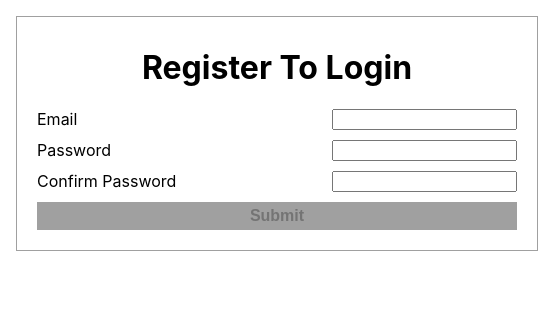
Register page › handle errors and navigate › should show password error message on invalid password
expect the text "Password should have at least 5 characters" is not shown: met
Type "stackjs@gmail.com" into the field labelled "Email" at {"x": 424, "y": 119}, box [332,109,517,130]
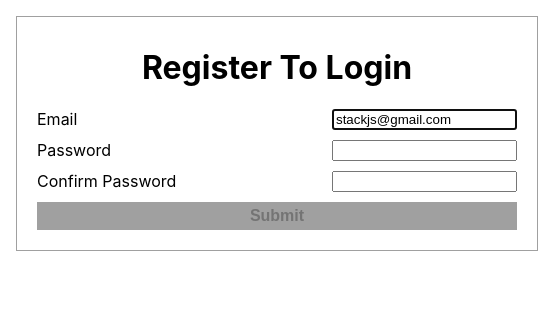
Type "123" into the password field labelled "Password" at {"x": 424, "y": 150}, box [332,140,517,161]
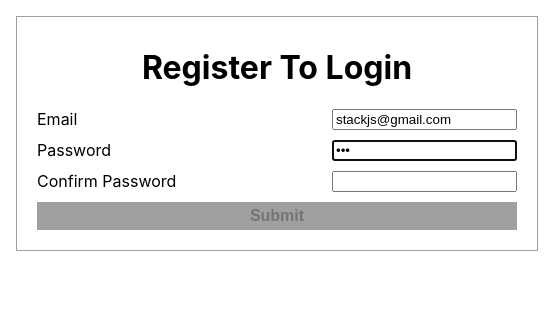
Type "123" into the password field labelled "Confirm Password" at {"x": 424, "y": 181}, box [332,171,517,192]
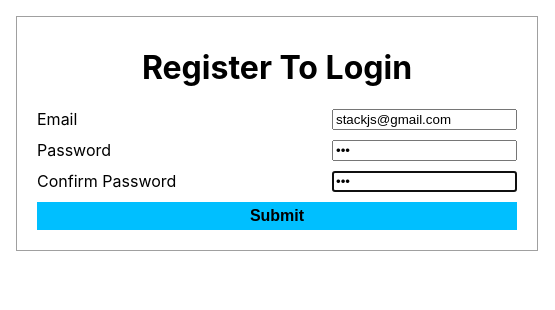
Click the button "Submit" at {"x": 277, "y": 216}, box [37,202,517,230]
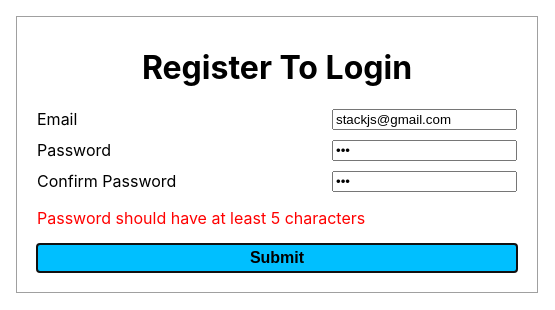
expect the text "Password should have at least 5 characters" is shown: met, box [37,208,365,228]
